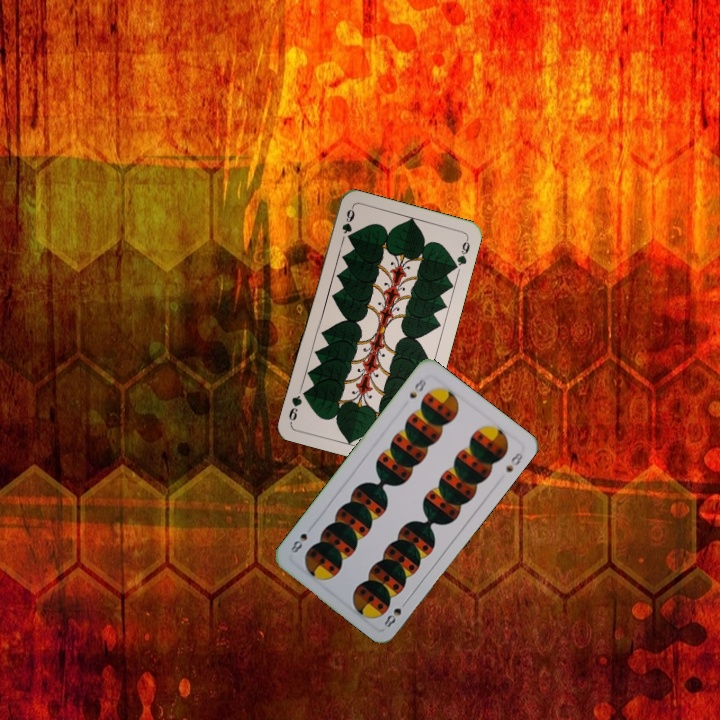G9: (338, 204, 357, 236)
S8: (405, 374, 429, 401), (380, 604, 404, 630)
